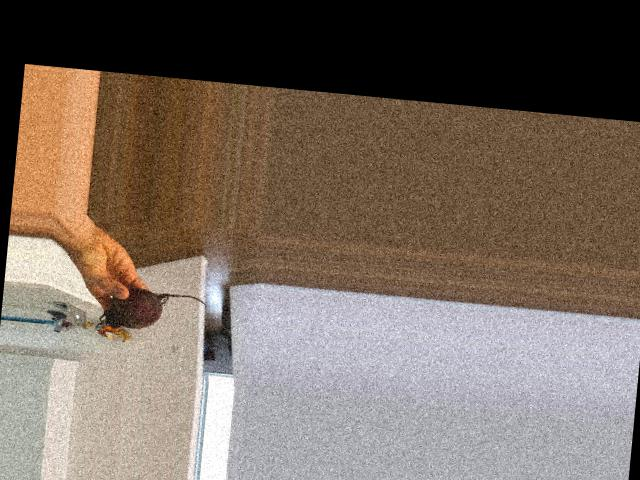beet: (99, 285, 208, 336)
